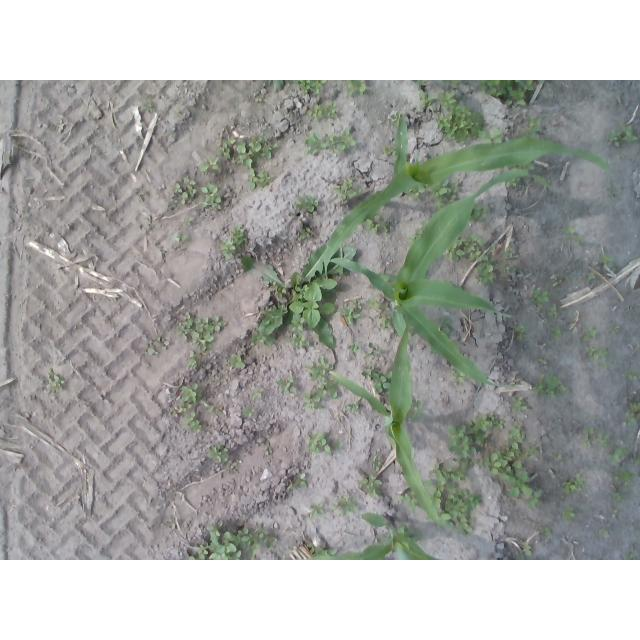Maize: (329, 168, 557, 384), (323, 114, 615, 280), (327, 308, 441, 524), (312, 513, 438, 559)
Weeds: (242, 245, 357, 348), (485, 421, 544, 507), (423, 458, 481, 536), (187, 520, 277, 560), (221, 136, 278, 190), (448, 412, 504, 460), (289, 283, 336, 330), (176, 312, 229, 353), (439, 106, 484, 142), (480, 80, 535, 106), (169, 383, 201, 417), (450, 235, 489, 262), (361, 363, 391, 393), (490, 241, 516, 274), (304, 432, 342, 453), (252, 318, 279, 346), (306, 356, 335, 380), (330, 128, 356, 153), (330, 494, 359, 515), (334, 180, 363, 201), (358, 474, 382, 498), (305, 132, 328, 156), (547, 374, 569, 399), (202, 185, 223, 210), (562, 474, 587, 495), (181, 176, 198, 205), (294, 80, 327, 94), (397, 494, 418, 515), (366, 215, 388, 234), (276, 377, 297, 396), (475, 264, 494, 285), (183, 413, 201, 435), (208, 445, 230, 463), (297, 196, 320, 213), (307, 544, 337, 557), (478, 128, 502, 144), (48, 368, 65, 390), (338, 308, 361, 324), (364, 343, 384, 361), (322, 378, 339, 399), (306, 501, 325, 519), (231, 226, 248, 246), (608, 446, 628, 463), (533, 288, 550, 308), (438, 92, 458, 109), (200, 155, 221, 171), (614, 467, 636, 482), (418, 92, 436, 110), (346, 81, 367, 96), (289, 473, 307, 490), (433, 180, 452, 196), (410, 400, 425, 420), (302, 395, 320, 410), (534, 375, 546, 397), (203, 403, 223, 416), (607, 130, 623, 146), (221, 242, 236, 259), (513, 396, 528, 413), (325, 101, 339, 119), (345, 402, 364, 415), (584, 427, 595, 449), (582, 326, 598, 341), (527, 116, 542, 132), (623, 125, 638, 141), (473, 205, 490, 219), (442, 81, 475, 88), (525, 443, 540, 458), (308, 105, 324, 119), (290, 336, 310, 347), (250, 387, 264, 402), (595, 433, 610, 447), (407, 187, 426, 198), (229, 356, 245, 369), (516, 324, 529, 340), (145, 341, 159, 355), (624, 411, 637, 426), (158, 337, 171, 351), (564, 505, 575, 521), (188, 350, 196, 370), (388, 112, 400, 125), (372, 455, 381, 472), (398, 527, 414, 536), (600, 253, 613, 264), (173, 232, 187, 242), (548, 303, 558, 317), (243, 408, 255, 419), (379, 317, 391, 328), (367, 296, 378, 308), (273, 80, 284, 92), (56, 120, 65, 134), (629, 403, 640, 414), (301, 228, 311, 240), (264, 441, 272, 456), (454, 372, 466, 382), (596, 348, 608, 358), (606, 325, 618, 335), (586, 347, 595, 360), (173, 183, 184, 193), (182, 216, 194, 225), (541, 527, 552, 536), (524, 545, 533, 556), (625, 553, 639, 560), (565, 228, 576, 236), (385, 147, 396, 155), (444, 195, 456, 202), (228, 460, 237, 469), (144, 101, 152, 111), (349, 345, 360, 352), (614, 492, 622, 501), (437, 198, 444, 208), (587, 272, 595, 280), (602, 362, 611, 369), (380, 303, 389, 310), (555, 328, 561, 338), (453, 181, 458, 192), (554, 455, 563, 461), (355, 300, 361, 309), (538, 359, 546, 365), (550, 273, 558, 279), (600, 529, 608, 535), (516, 556, 525, 561), (627, 373, 634, 379), (575, 237, 581, 243), (178, 110, 185, 115), (635, 459, 640, 465), (171, 199, 178, 203), (614, 510, 619, 514), (378, 314, 382, 319)
